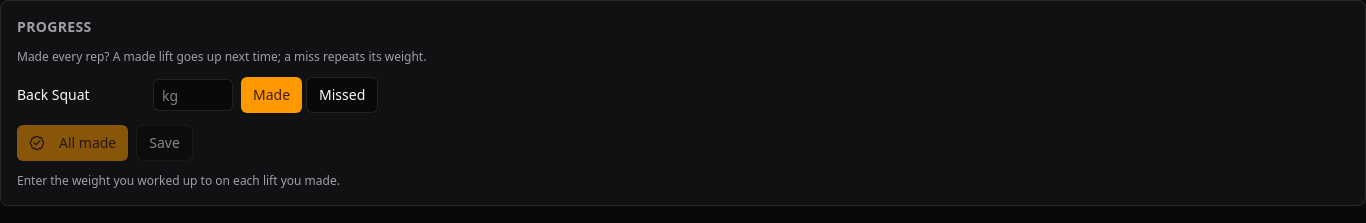
Scenario: ModuleProgress › takes the weight worked up to on a first session
This screenshot has width=1366, height=223.
Expected: the button "All made" is disabled, [17, 125, 128, 161]
In the field named "Back Squat kg": {"x": 193, "y": 95} [153, 79, 233, 111], type "62.5"
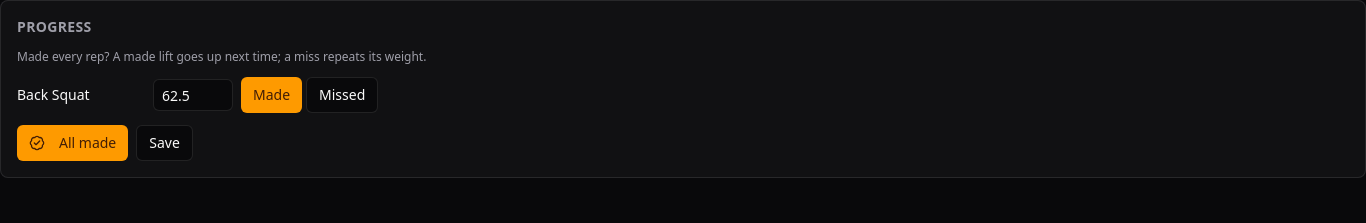
Click the button "All made": {"x": 73, "y": 143} [17, 125, 128, 161]
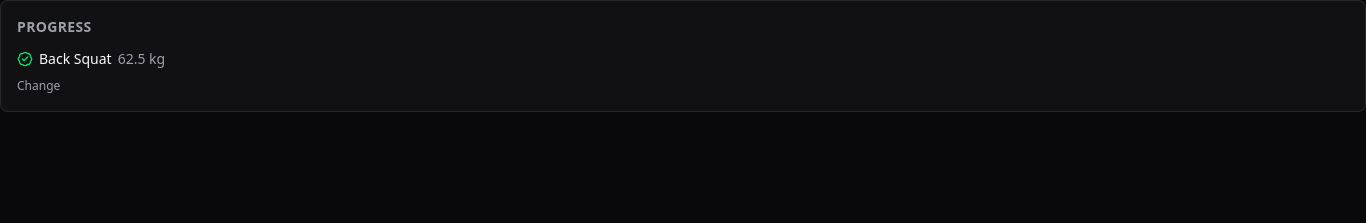
Expected: the text "62.5 kg" is shown, [118, 49, 165, 69]
